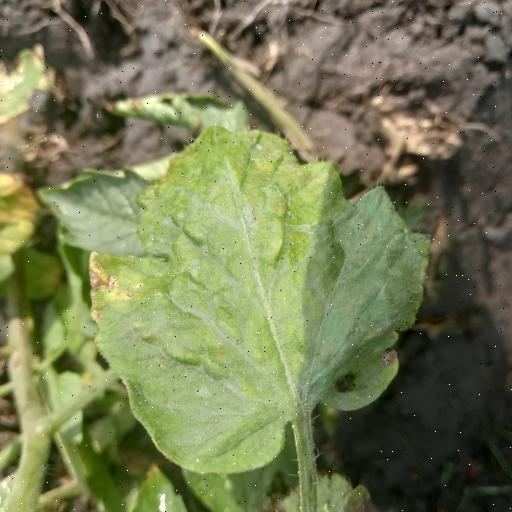Tomato_Brown_Spots: (86, 120, 438, 481)
